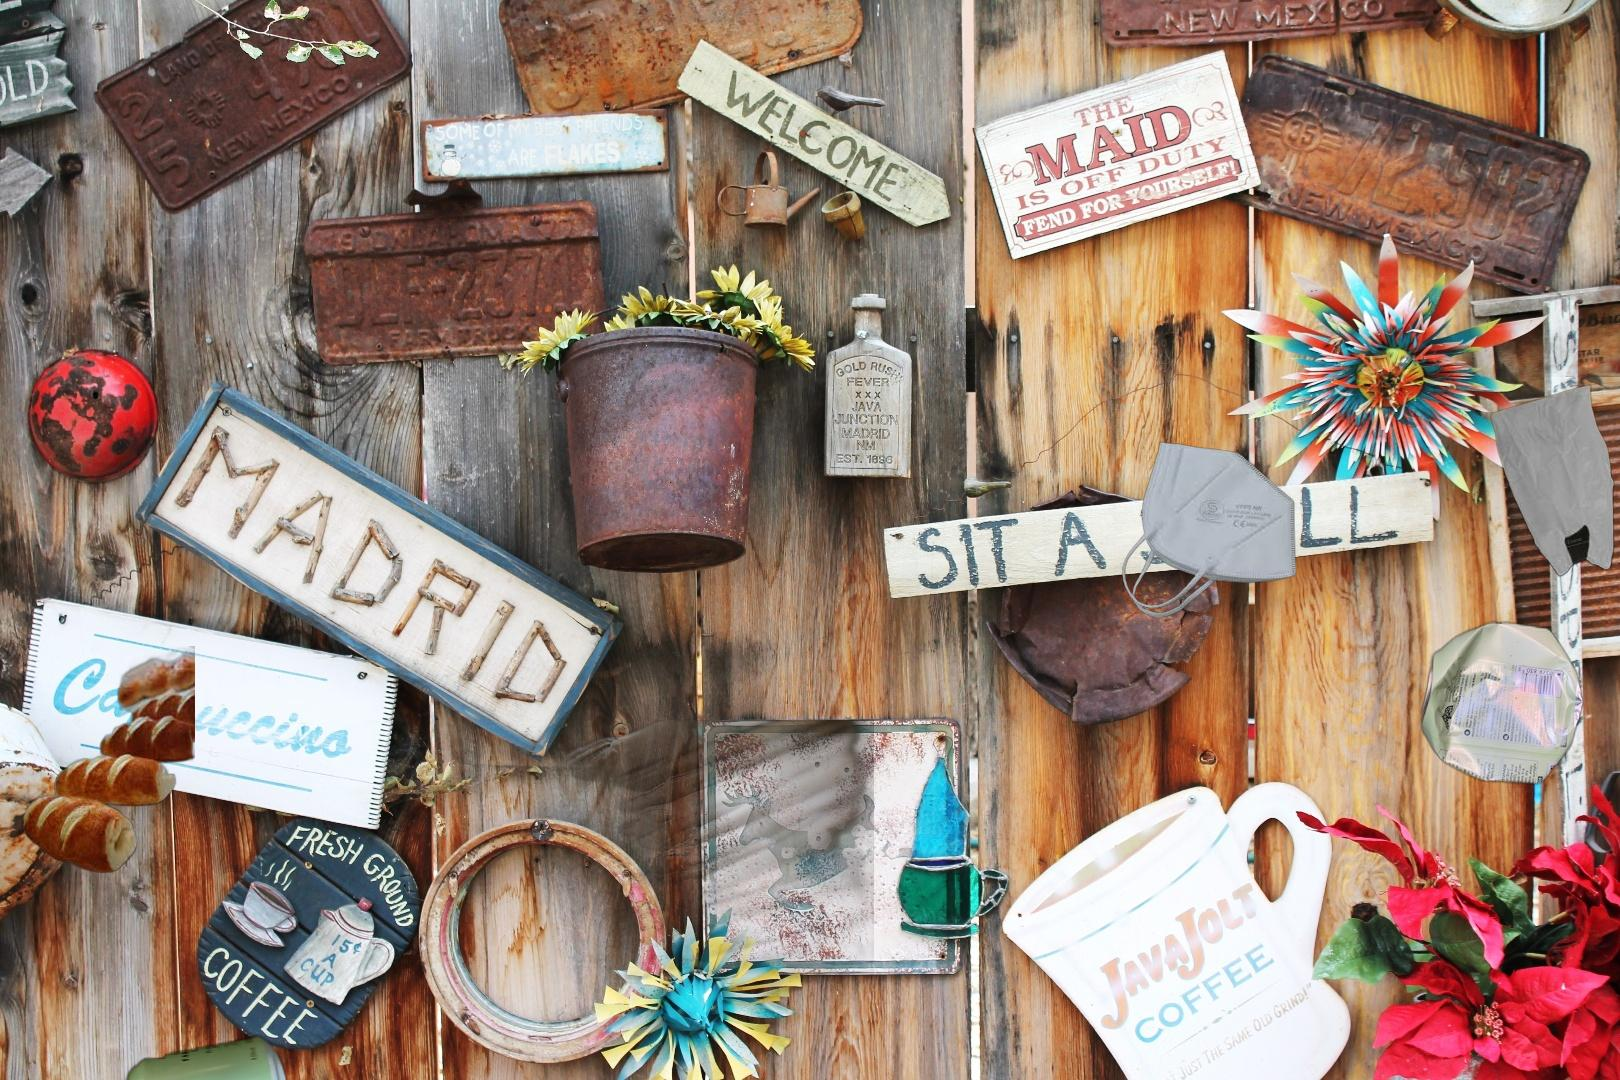biological: (1370, 209, 1620, 377), (20, 646, 195, 876)
metal-cans: (1416, 615, 1587, 790), (119, 1031, 294, 1080)
plastic-bag: (1487, 382, 1618, 580)
trash: (1119, 439, 1299, 621)
trashbox-cardboard: (485, 720, 874, 1000)
